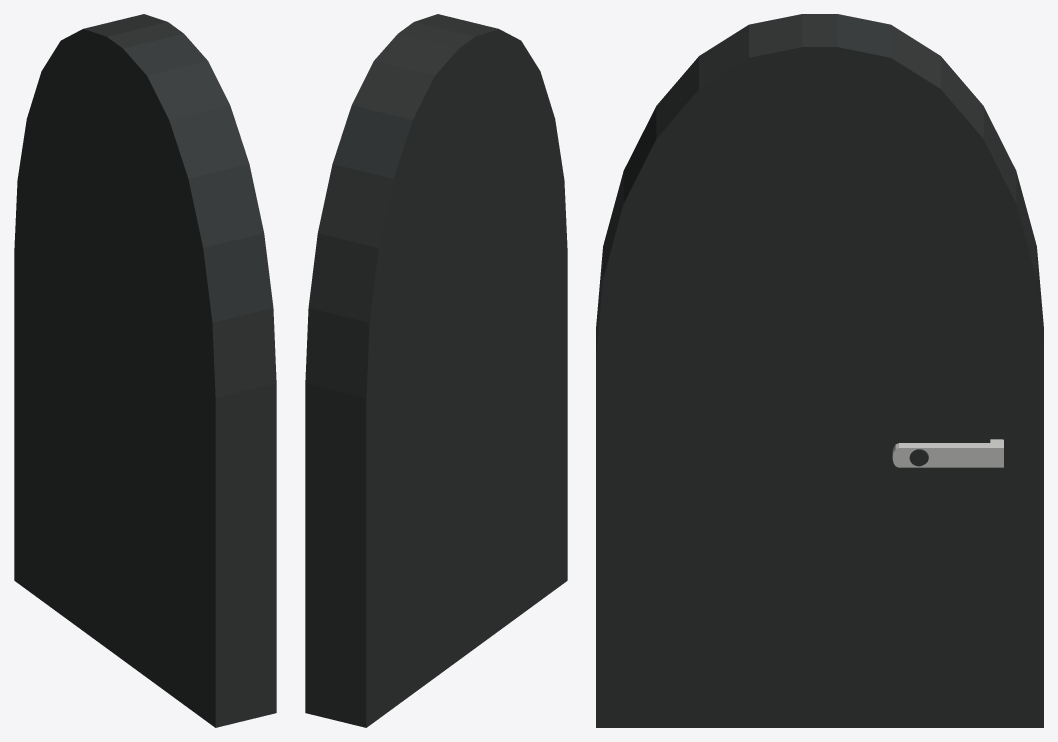
File: porta.fbx
3 renders of one model, left to right at view 1: azimuth 30°, elevation 25°; view 2: azimuth 150°, elevation 25°; view 3: azimuth 270°, elevation 25°, orthographic. The views are drawn at different scales.
Parts seen in each view (by area): view 1: Cube; view 2: Cube; view 3: Cube.
Boxes of the visible parts, x1,y1,x2,y2 form: Cube: (14, 14, 276, 727); Cube: (305, 14, 567, 727); Cube: (596, 14, 1043, 727).
Size of the model in its own units: 47.63 by 359 by 214.
2 materials, 2 textured.
